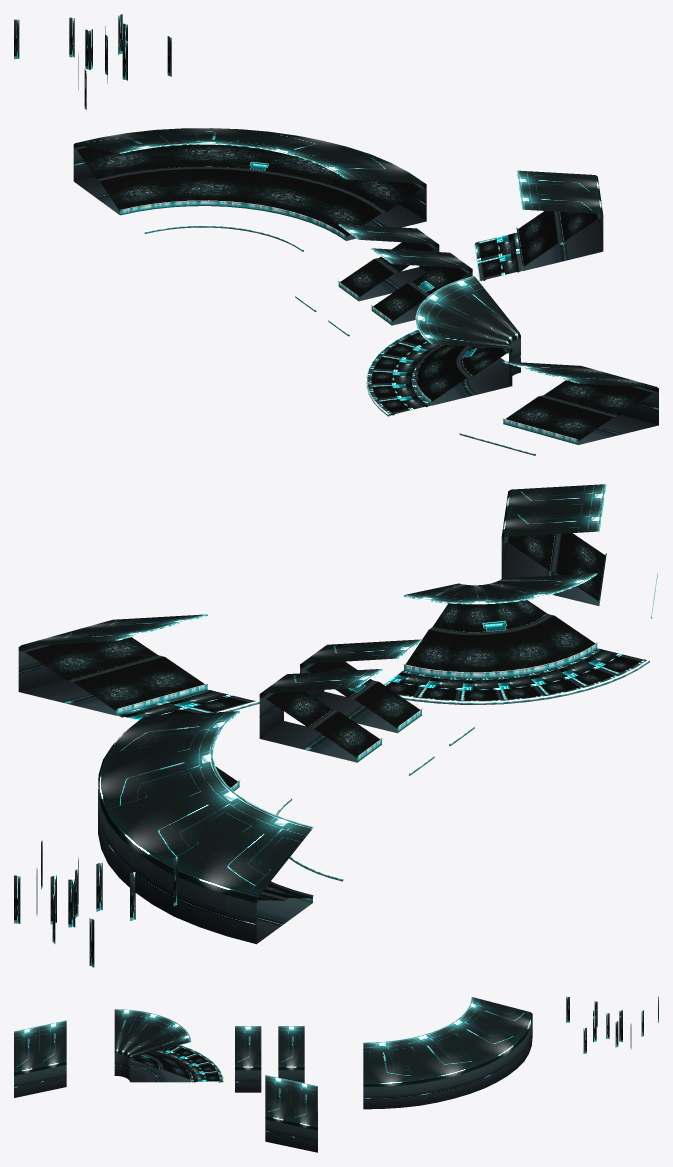
The model's file is lightcycle_arena_parts.glb.
The picture shows the model from 3 angles, top to bottom: view 1: azimuth 30°, elevation 25°; view 2: azimuth 150°, elevation 25°; view 3: azimuth 270°, elevation 25°; orthographic projection. The views are drawn at different scales.
Parts seen in each view (by area): view 1: auditorium_longLeftTurn, translucent_longLeftTurn, auditorium, translucent_turnRight, auditorium_turnRight, auditorium #27, translucent #31, track, auditorium1, auditorium2, translucent, track #15 (+3 smaller); view 2: translucent_longLeftTurn, auditorium_turnRight, auditorium #27, auditorium_longLeftTurn, track, auditorium1, auditorium, translucent, translucent_turnRight, auditorium2, translucent #31, translucent2 (+4 smaller); view 3: translucent_longLeftTurn, auditorium_longLeftTurn, translucent_turnRight, translucent, translucent #31, auditorium_turnRight, auditorium #27, auditorium, translucent1, translucent2, track, auditorium2 (+2 smaller).
Part boxes in pixels (box(x1,y1,x2,y2)): auditorium_longLeftTurn: box(73, 143, 426, 240); translucent_longLeftTurn: box(73, 128, 426, 251); auditorium: box(502, 361, 658, 444); translucent_turnRight: box(365, 276, 520, 416); auditorium_turnRight: box(415, 276, 520, 405); auditorium #27: box(516, 171, 603, 270); translucent #31: box(473, 170, 603, 281); track: box(371, 332, 439, 414); auditorium1: box(338, 224, 439, 301); auditorium2: box(371, 248, 472, 325); translucent: box(459, 361, 658, 455); track #15: box(478, 233, 518, 279); translucent_longLeftTurn: box(98, 711, 343, 902); auditorium_turnRight: box(403, 573, 597, 678); auditorium #27: box(18, 614, 208, 715); auditorium_longLeftTurn: box(98, 711, 313, 944); track: box(384, 649, 643, 700); auditorium1: box(259, 669, 382, 762); auditorium: box(501, 484, 606, 605); translucent: box(501, 484, 658, 619); translucent_turnRight: box(399, 573, 650, 704); auditorium2: box(300, 639, 422, 733); translucent #31: box(18, 614, 259, 712); translucent2: box(300, 639, 474, 746); translucent_longLeftTurn: box(363, 997, 532, 1087); auditorium_longLeftTurn: box(363, 997, 532, 1109); translucent_turnRight: box(114, 1009, 223, 1082); translucent: box(14, 1020, 66, 1075); translucent #31: box(265, 1075, 317, 1130); auditorium_turnRight: box(114, 1009, 191, 1082); auditorium #27: box(265, 1075, 317, 1152); auditorium: box(14, 1020, 66, 1097); translucent1: box(278, 1026, 304, 1070); translucent2: box(235, 1026, 261, 1070); track: box(156, 1046, 219, 1081); auditorium2: box(235, 1070, 261, 1092).
Bounding box in the file's own units: 366 × 78.6 × 856.
Materials: 1 (1 with a texture image).
